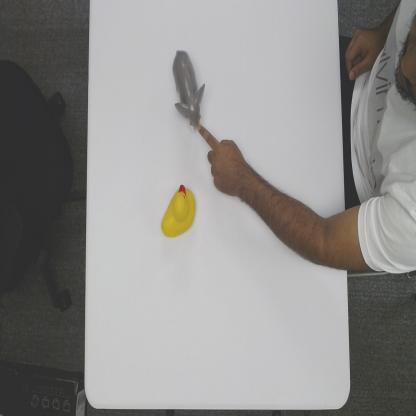Arm: (249, 169, 347, 272)
Duck: (160, 180, 196, 241)
Elephant: (172, 47, 205, 129)
Hand: (196, 120, 246, 199)
